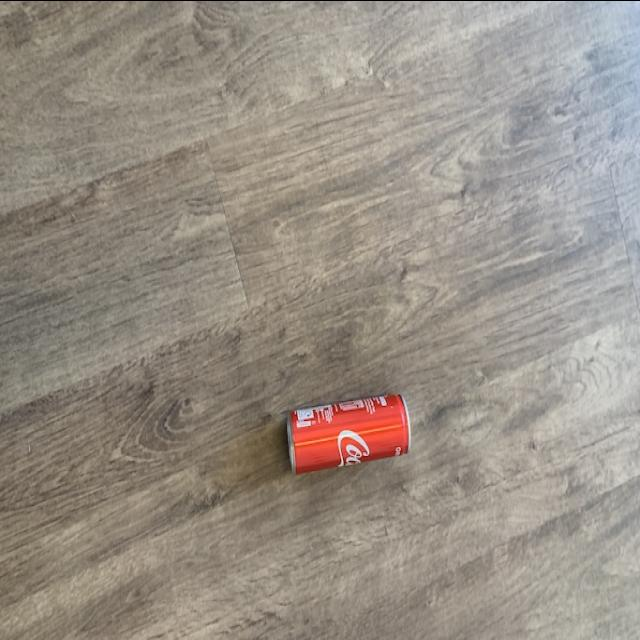Aluminum Can: (271, 366, 423, 492)
